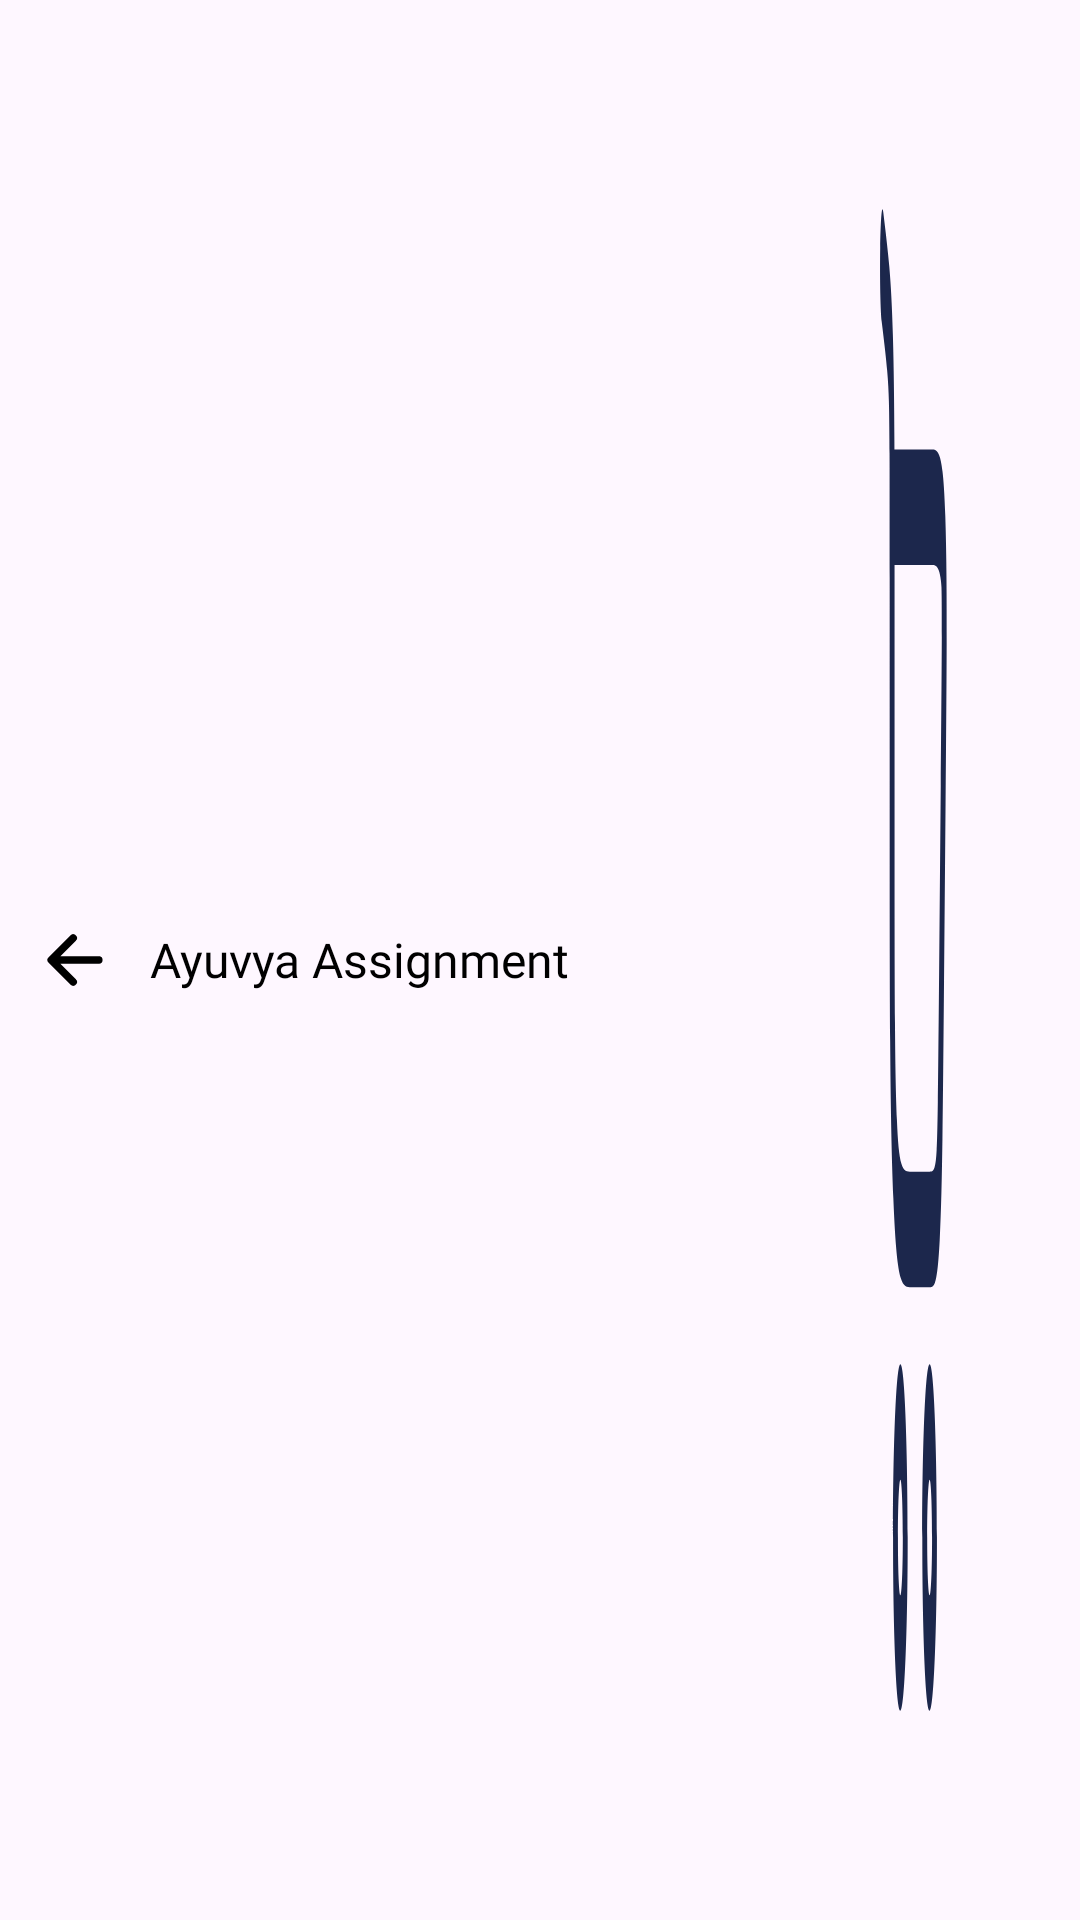

Screen size 1080 × 1920. Icon name, then its box in pixels as [x1=x1, y1=y1, x2=x2, y2=y2]:
back: [x1=47, y1=934, x2=103, y2=986]
